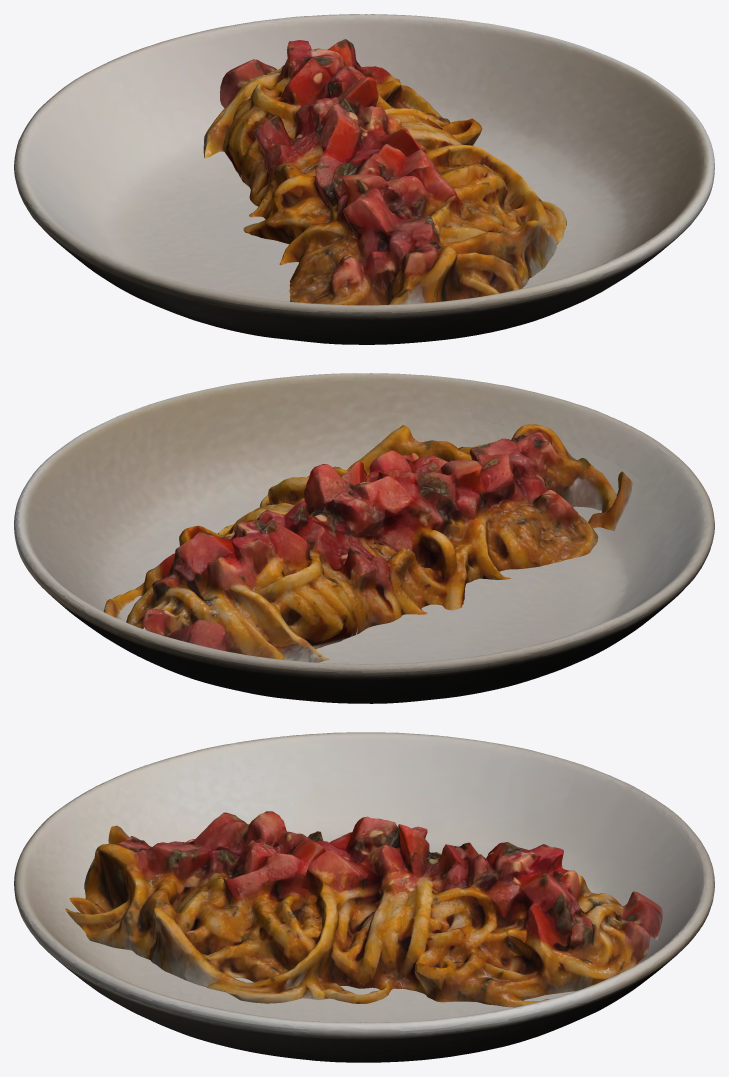
Rendered from Tomato.linquini.001.glb.
3 views of the same model, one above another, from view 1: azimuth 30°, elevation 25°; view 2: azimuth 150°, elevation 25°; view 3: azimuth 270°, elevation 25° (orthographic).
Visible parts, largest first — view 1: /Root/Scenes/Scene/Object_37/Object_39/Object_40/Submesh_0, /Root/Scenes/Scene/Object_37/Object_38/Submesh_0; view 2: /Root/Scenes/Scene/Object_37/Object_39/Object_40/Submesh_0, /Root/Scenes/Scene/Object_37/Object_38/Submesh_0; view 3: /Root/Scenes/Scene/Object_37/Object_39/Object_40/Submesh_0, /Root/Scenes/Scene/Object_37/Object_38/Submesh_0.
Boxes of the visible parts, box(x1,y1,x2,y2) form: /Root/Scenes/Scene/Object_37/Object_39/Object_40/Submesh_0: box(14, 14, 714, 344); /Root/Scenes/Scene/Object_37/Object_38/Submesh_0: box(203, 39, 566, 305); /Root/Scenes/Scene/Object_37/Object_39/Object_40/Submesh_0: box(14, 373, 714, 703); /Root/Scenes/Scene/Object_37/Object_38/Submesh_0: box(103, 424, 632, 662); /Root/Scenes/Scene/Object_37/Object_39/Object_40/Submesh_0: box(14, 732, 714, 1062); /Root/Scenes/Scene/Object_37/Object_38/Submesh_0: box(65, 811, 662, 1007).
Size of the model in its own units: 0.2601 by 0.0621 by 0.2601.
Materials: 2 (2 with a texture image).
